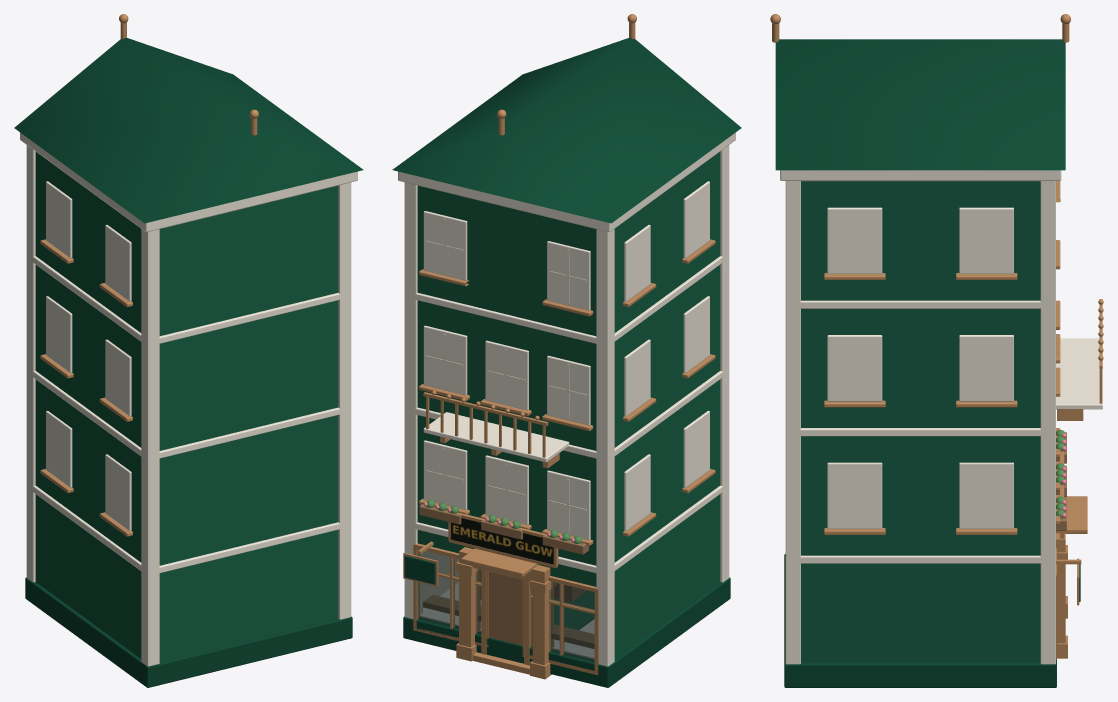
The model's file is gedung-g04-blender-v3.glb.
The picture shows the model from 3 angles, left to right: view 1: azimuth 30°, elevation 25°; view 2: azimuth 150°, elevation 25°; view 3: azimuth 270°, elevation 25°; orthographic projection. The views are drawn at different scales.
Parts seen in each view (by area): view 1: Badan, Atap, Balkon_Lantai, Balkon_Bola_0; view 2: Badan, Balkon_Lantai, Atap, Balkon_Bola_0, Etalase_Kaca_-1.6, Door_Trim, Etalase_Isi_-1.6, Bingkai_Etalase, Shop_Sign, Int_Shell, Int_Rug, Daun_-1.8_0; view 3: Badan, Balkon_Lantai, Atap, Balkon_Bola_0, Door_Trim.
Boxes of the visible parts, left/top/right/bottom form: Badan: left=35, top=152, right=338, bottom=661; Atap: left=14, top=38, right=363, bottom=687; Balkon_Lantai: left=20, top=132, right=357, bottom=666; Balkon_Bola_0: left=40, top=14, right=258, bottom=536; Badan: left=417, top=152, right=720, bottom=658; Balkon_Lantai: left=398, top=132, right=735, bottom=666; Atap: left=392, top=38, right=741, bottom=687; Balkon_Bola_0: left=403, top=14, right=715, bottom=586; Etalase_Kaca_-1.6: left=417, top=549, right=594, bottom=662; Door_Trim: left=456, top=547, right=556, bottom=679; Etalase_Isi_-1.6: left=419, top=504, right=594, bottom=648; Bingkai_Etalase: left=413, top=543, right=598, bottom=675; Shop_Sign: left=448, top=512, right=558, bottom=568; Int_Shell: left=420, top=551, right=594, bottom=659; Int_Rug: left=554, top=590, right=594, bottom=629; Daun_-1.8_0: left=426, top=500, right=582, bottom=543; Badan: left=801, top=181, right=1040, bottom=662; Balkon_Lantai: left=780, top=170, right=1102, bottom=664; Atap: left=775, top=39, right=1080, bottom=687; Balkon_Bola_0: left=770, top=14, right=1103, bottom=605; Door_Trim: left=1056, top=533, right=1067, bottom=658.
Bounding box in the file's own units: 6.4 × 15.56 × 7.58.
Materials: 15 (1 with a texture image).
